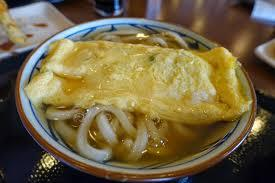kitune: (28, 24, 251, 167)
